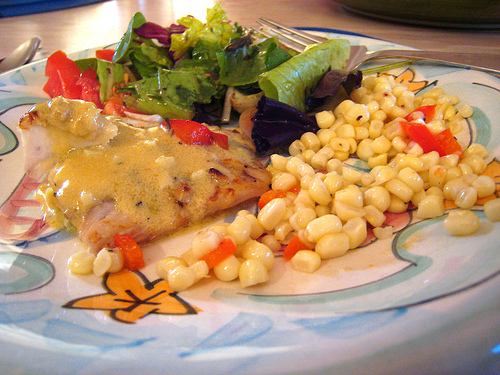corn: (60, 70, 499, 288)
